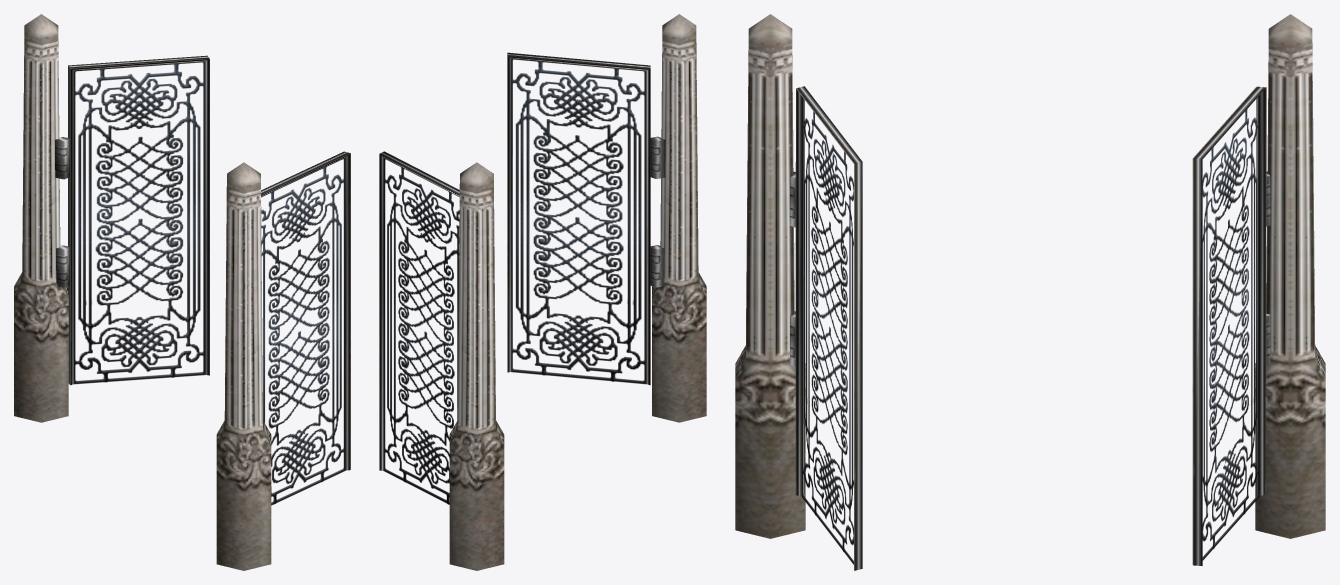
Rendered from rd_fen3.glb.
3 renders of one model, left to right at view 1: azimuth 30°, elevation 25°; view 2: azimuth 150°, elevation 25°; view 3: azimuth 270°, elevation 25°, orthographic. The views are drawn at different scales.
Visible parts, largest first — view 1: rd_fen3-col; view 2: rd_fen3-col; view 3: rd_fen3-col.
Boxes of the visible parts, x1,y1,x2,y2 form: rd_fen3-col: [14, 14, 350, 570]; rd_fen3-col: [379, 14, 706, 570]; rd_fen3-col: [735, 14, 1325, 570].
Bounding box in the file's own units: 1.98 × 4.48 × 4.72.
2 materials, 2 textured.
